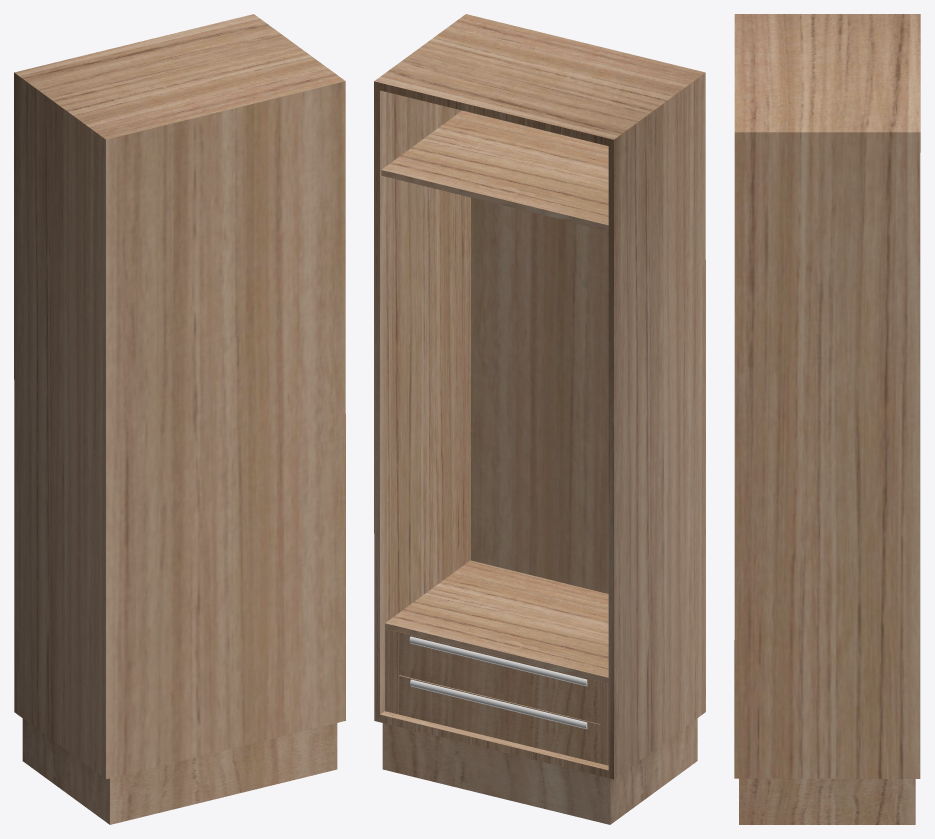
The model's file is ruangan_auto.glb.
3 renders of one model, left to right at view 1: azimuth 30°, elevation 25°; view 2: azimuth 150°, elevation 25°; view 3: azimuth 270°, elevation 25°, orthographic.
Bounding box in the file's own units: 0.904 × 2.48 × 0.6008.
2 materials, 2 textured.
